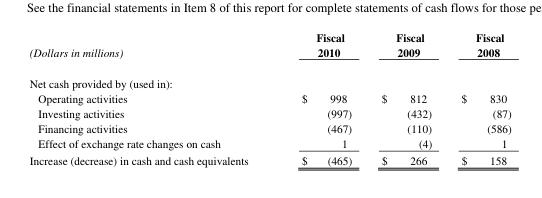table: (28, 28, 510, 167)
table column: (28, 28, 274, 167), (274, 28, 366, 167), (366, 28, 445, 167), (445, 28, 510, 167)
table column header: (28, 28, 510, 67)
table projected row header: (28, 67, 510, 89)
table row: (28, 28, 510, 67), (28, 67, 510, 89), (28, 104, 510, 120), (28, 135, 510, 151), (28, 151, 510, 167), (28, 89, 510, 104), (28, 120, 510, 135)
